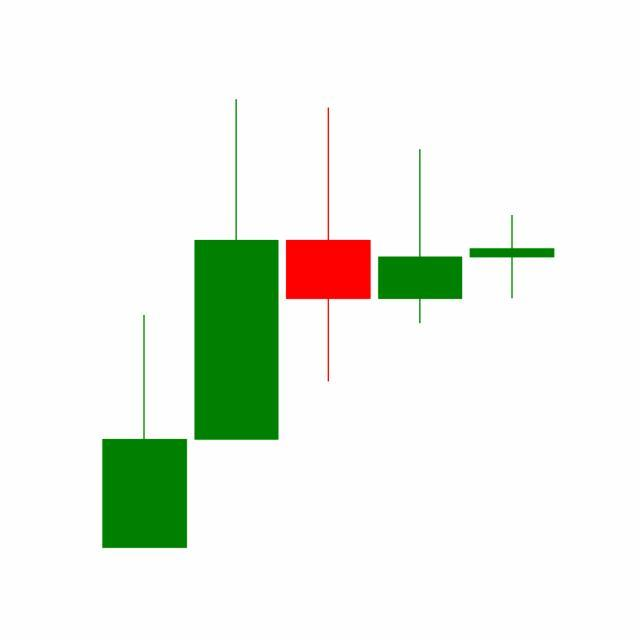Spinning Top: (466, 215, 559, 301)
